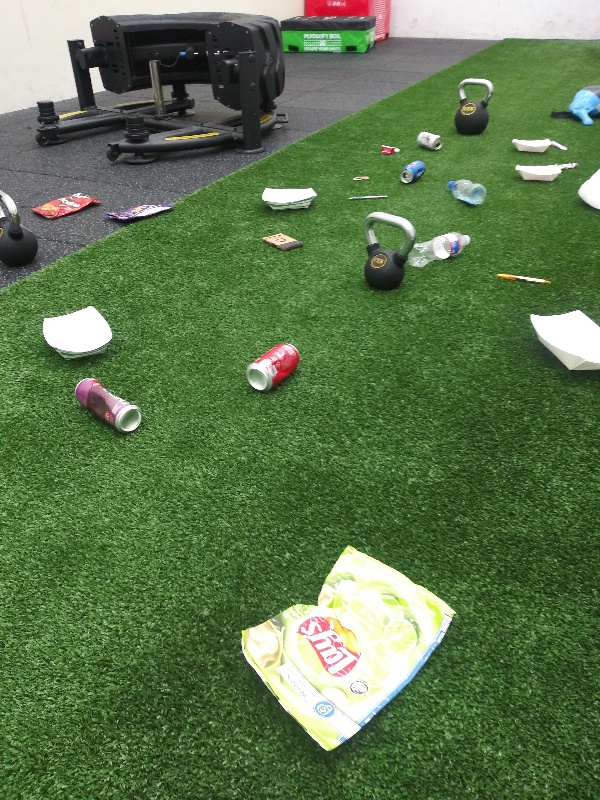bag: (236, 542, 457, 759), (29, 189, 104, 224), (102, 197, 177, 225)
bottle: (408, 230, 475, 273), (438, 174, 491, 208)
can: (68, 372, 147, 435), (242, 335, 305, 401), (397, 159, 434, 185), (413, 126, 443, 150)
plate: (521, 306, 600, 380), (39, 305, 115, 363), (257, 181, 319, 216), (507, 162, 568, 186), (506, 135, 553, 154)
